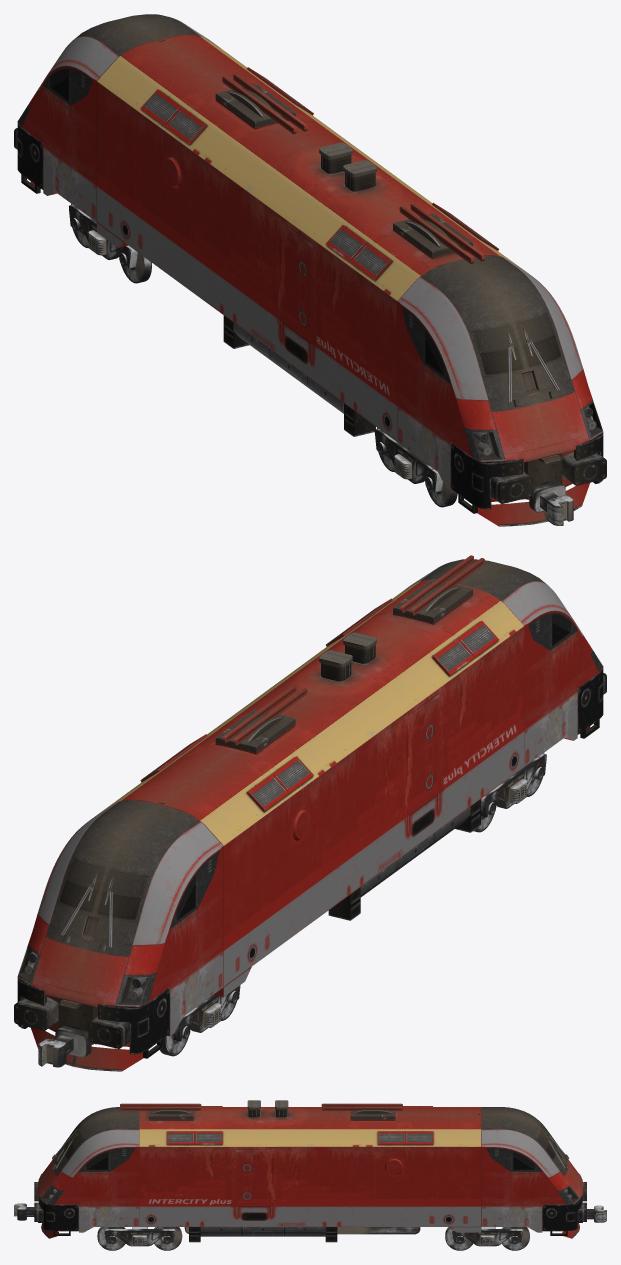
Rendered from SM_TrainLoco.FBX.
The picture shows the model from 3 angles, top to bottom: view 1: azimuth 30°, elevation 25°; view 2: azimuth 150°, elevation 25°; view 3: azimuth 270°, elevation 25°; orthographic projection. The views are drawn at different scales.
Visible parts, largest first — view 1: SM_TrainLoco; view 2: SM_TrainLoco; view 3: SM_TrainLoco.
Part boxes in pixels (box(x1,y1,x2,y2)): SM_TrainLoco: box(14, 14, 606, 526); SM_TrainLoco: box(14, 555, 606, 1071); SM_TrainLoco: box(14, 1100, 606, 1250).
Bounding box in the file's own units: 254 × 1745 × 435.
